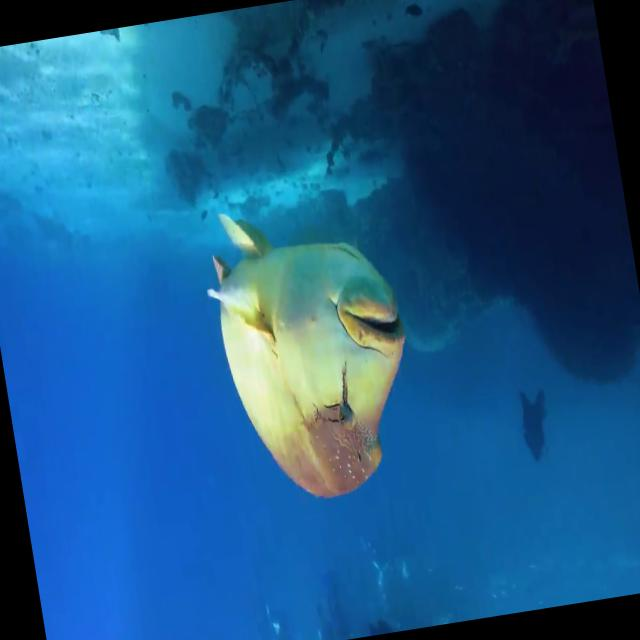fish: (191, 183, 430, 523)
